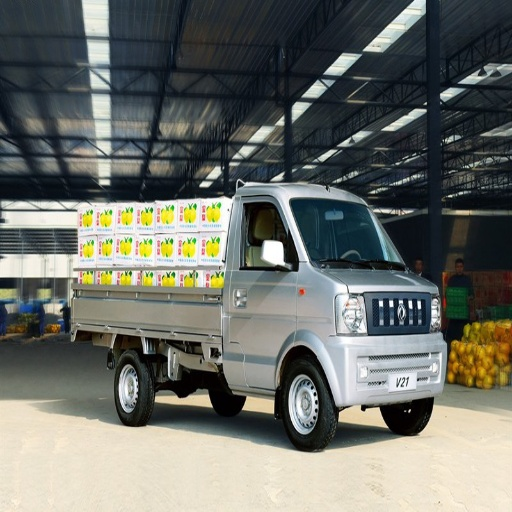front_bumper: (329, 330, 445, 401)
front_right_door: (230, 197, 298, 385)
trunk: (89, 320, 211, 368)
